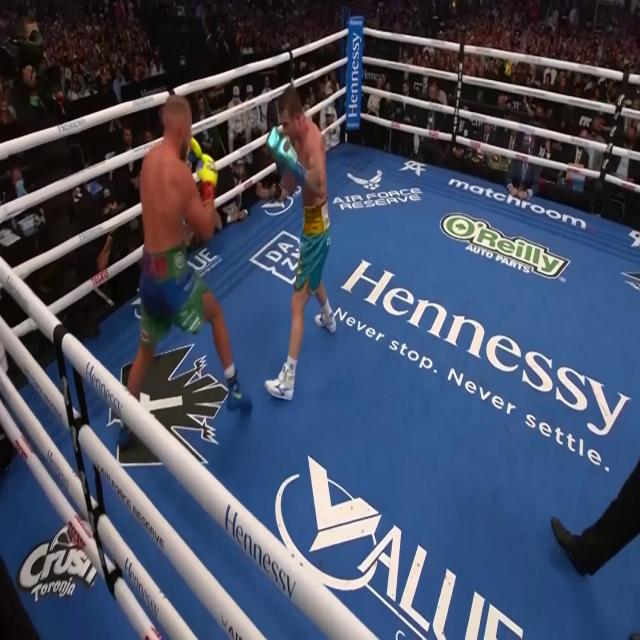boxer_1: (140, 95, 199, 252)
boxer_2: (279, 85, 329, 234)
gloves_1: (188, 136, 217, 200)
gloves_2: (267, 126, 306, 185)
